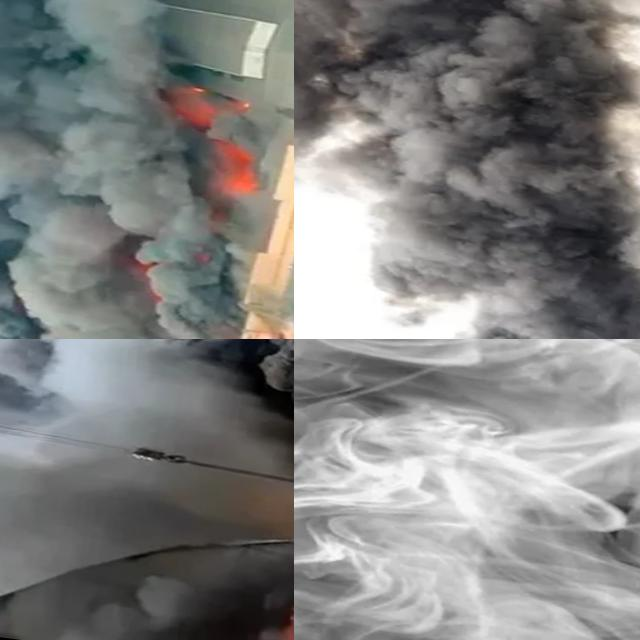smoke: (294, 0, 640, 339), (294, 339, 640, 640), (0, 0, 294, 339), (0, 339, 294, 493)
